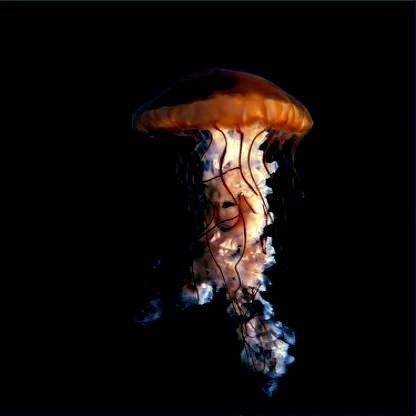Dressed: (122, 70, 324, 386)
